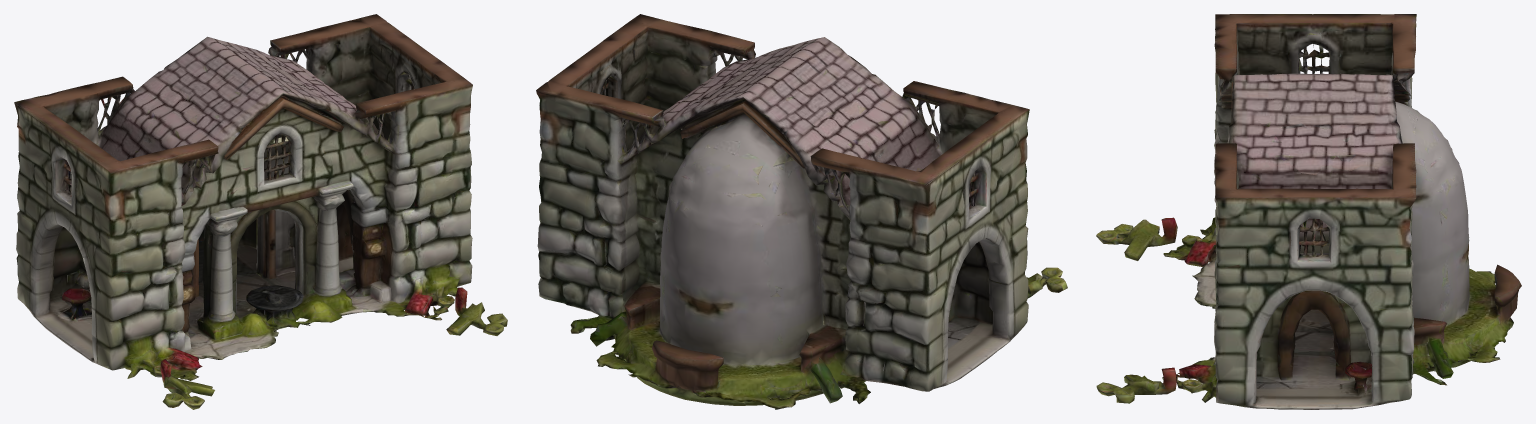
File: Dwarven Building #29_final.glb
3 renders of one model, left to right at view 1: azimuth 30°, elevation 25°; view 2: azimuth 150°, elevation 25°; view 3: azimuth 270°, elevation 25°, orthographic. The views are drawn at different scales.
Bounding box in the file's own units: 1.92 × 1.23 × 1.87.
1 material, 1 textured.
